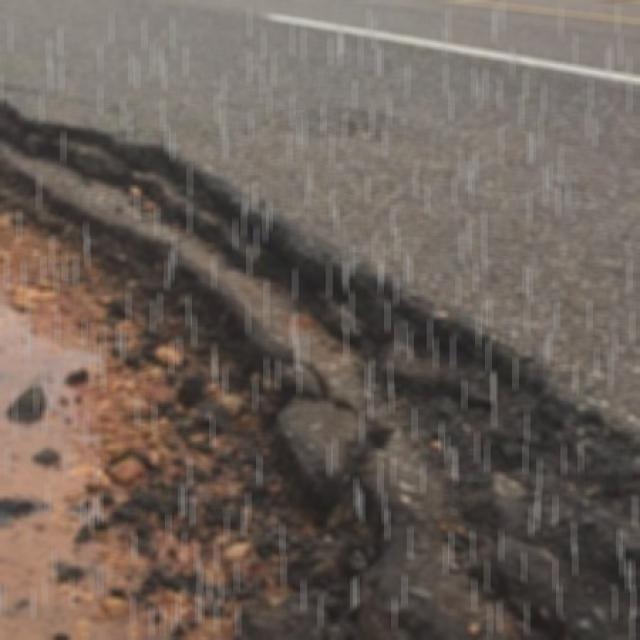road-pothole: (0, 93, 639, 639)
